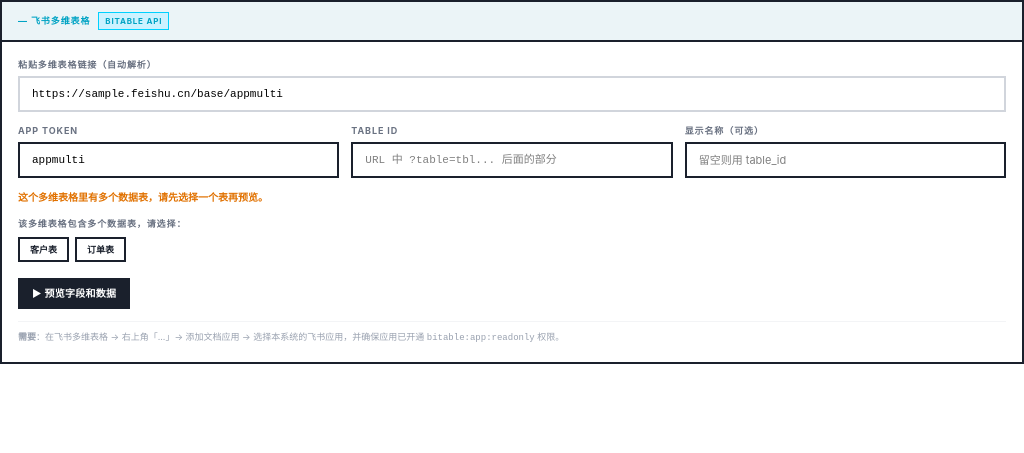
Test: BitablePanel › 多表链接会先展示表选择，再在选择后自动预览
This screenshot has width=1024, height=453.
Expected: the text "这个多维表格里有多个数据表，请先选择一个表再预览。" is shown, left=18, top=191, right=268, bottom=203
Click the button "客户表": (44, 249) left=18, top=236, right=69, bottom=262
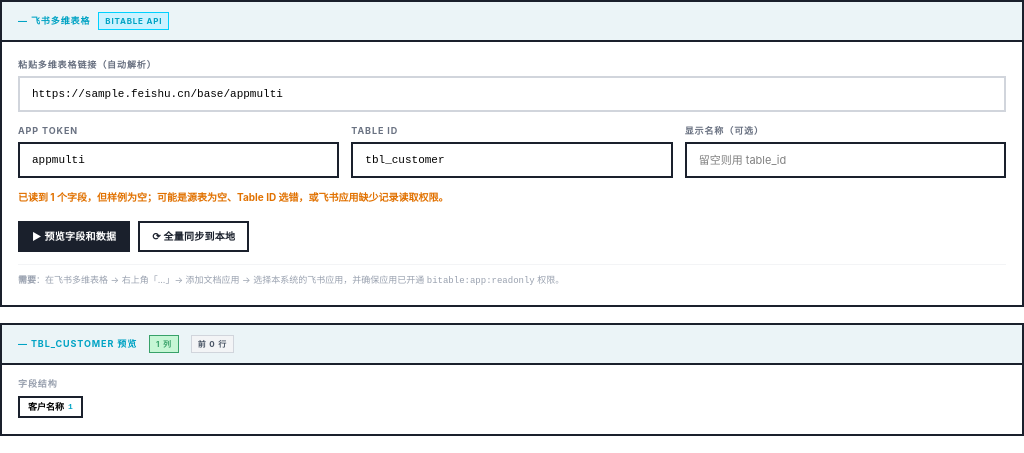
Now the text "已读到 1 个字段，但样例为空；可能是源表为空、Table ID 选错，或飞书应用缺少记录读取权限。" is shown, box left=18, top=191, right=448, bottom=203
